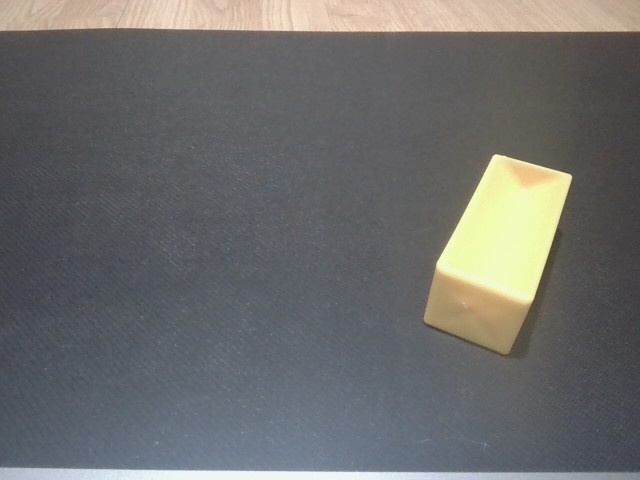YellowSample: (419, 150, 577, 362)
